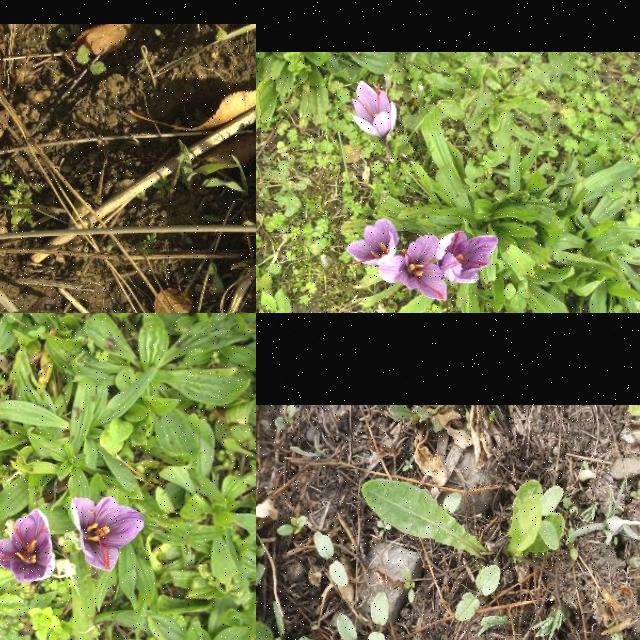flower: (72, 498, 142, 572), (380, 236, 448, 302), (0, 510, 57, 584), (436, 232, 499, 284), (350, 80, 398, 142), (346, 218, 400, 266)
